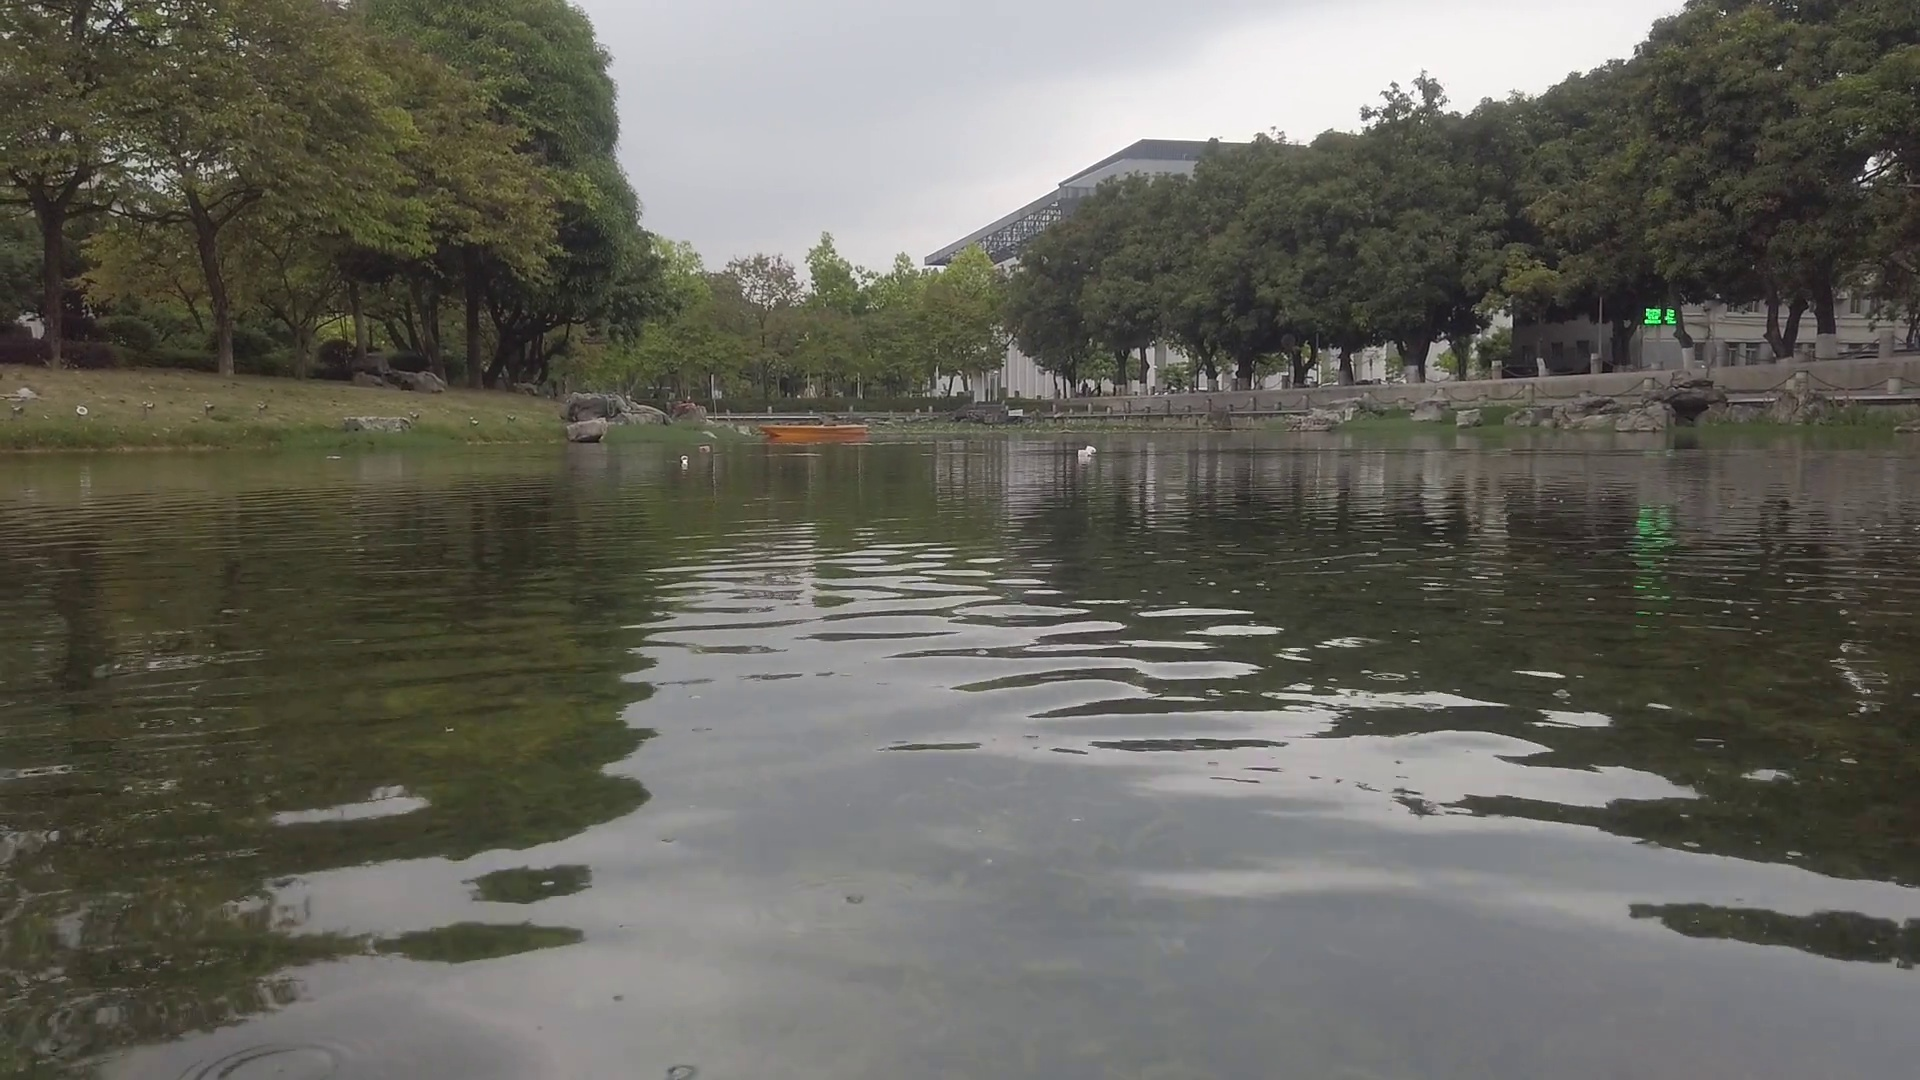bottle: (699, 444, 713, 454), (680, 455, 688, 464)
carton: (1077, 444, 1095, 460)
paper: (328, 451, 345, 462)
